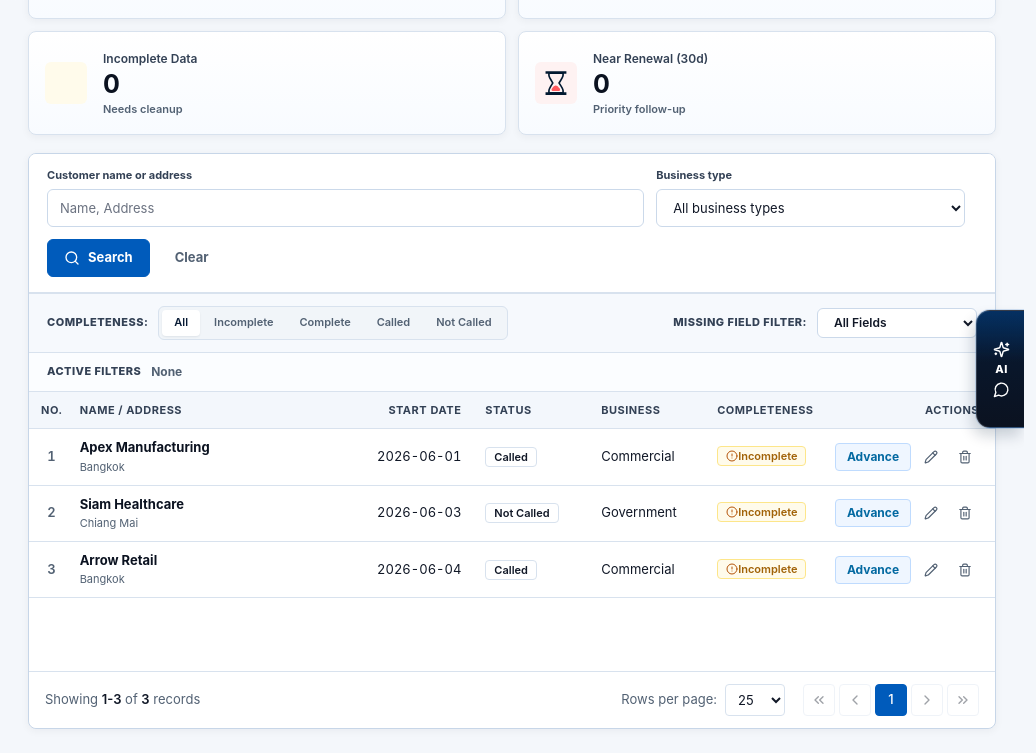
Test case: ATS React workspace › renders completeness filter chips, missing fields select, and status badges
This screenshot has width=1036, height=753.
(page scrolled)
expect the text "Apex Manufacturing" is shown: met, box [80,439,210,455]
expect the text "Completeness:" is shown: met, box [47,314,148,331]
Note: Click the incomplete badge for Apex Manufacturing and verify popover opens
Click the button with aria-label "show missing fields for apex manufacturing" at (762,456), box [717,446,806,466]
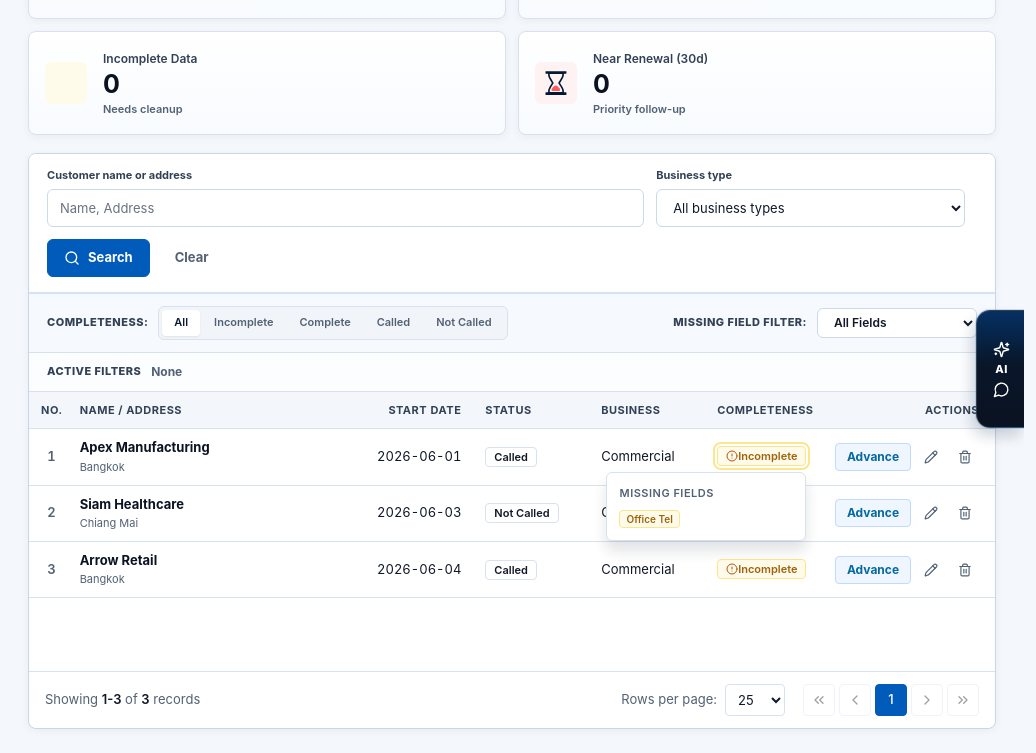
expect the heading "Missing Fields" is shown: met, box [620,486,714,500]
expect the text "Office Tel" is shown: met, box [620,510,680,528]
Note: Click the "Complete" filter pill
Click the button with aria-label "filter complete" at (325,323), box [287,310,363,336]
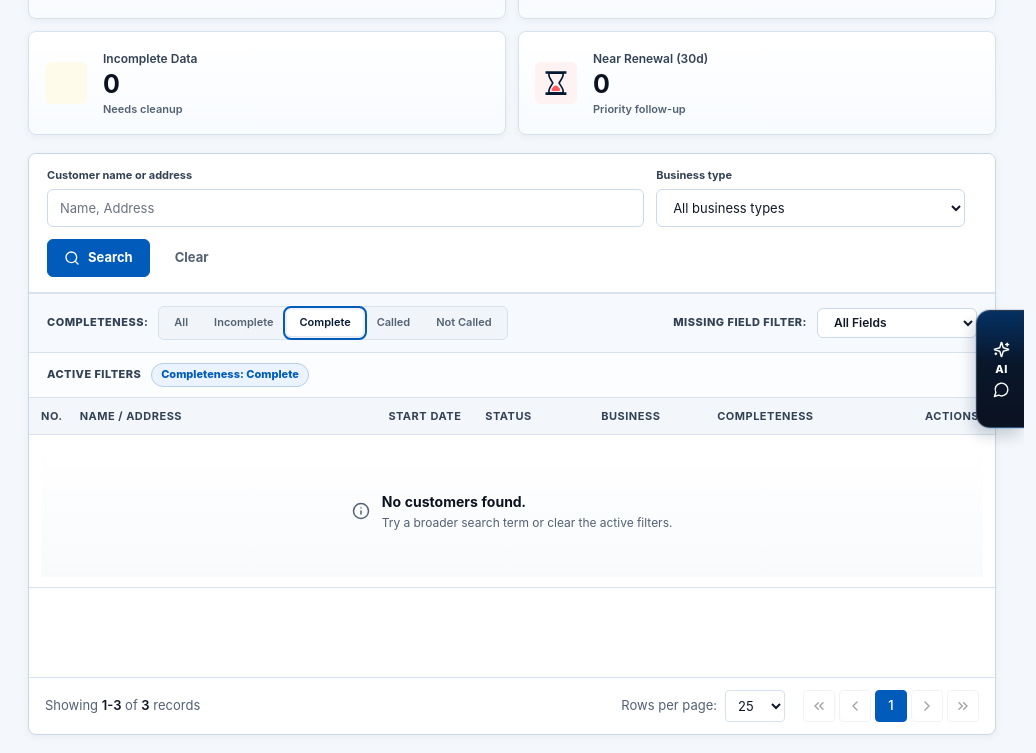
expect the text "No customers found." is shown: met, box [382,493,526,510]
